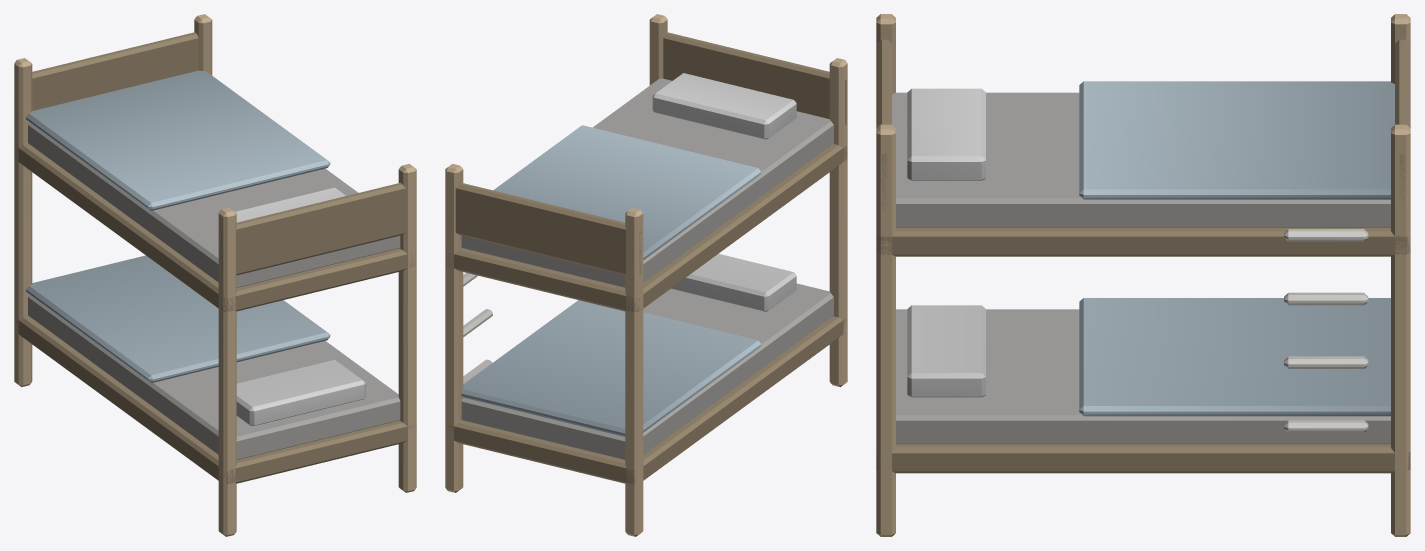
File: furn_bunk_bed__oak.glb
3 renders of one model, left to right at view 1: azimuth 30°, elevation 25°; view 2: azimuth 150°, elevation 25°; view 3: azimuth 270°, elevation 25°, orthographic. The views are drawn at different scales.
Size of the model in its own units: 1.04 by 1.6 by 1.9.
